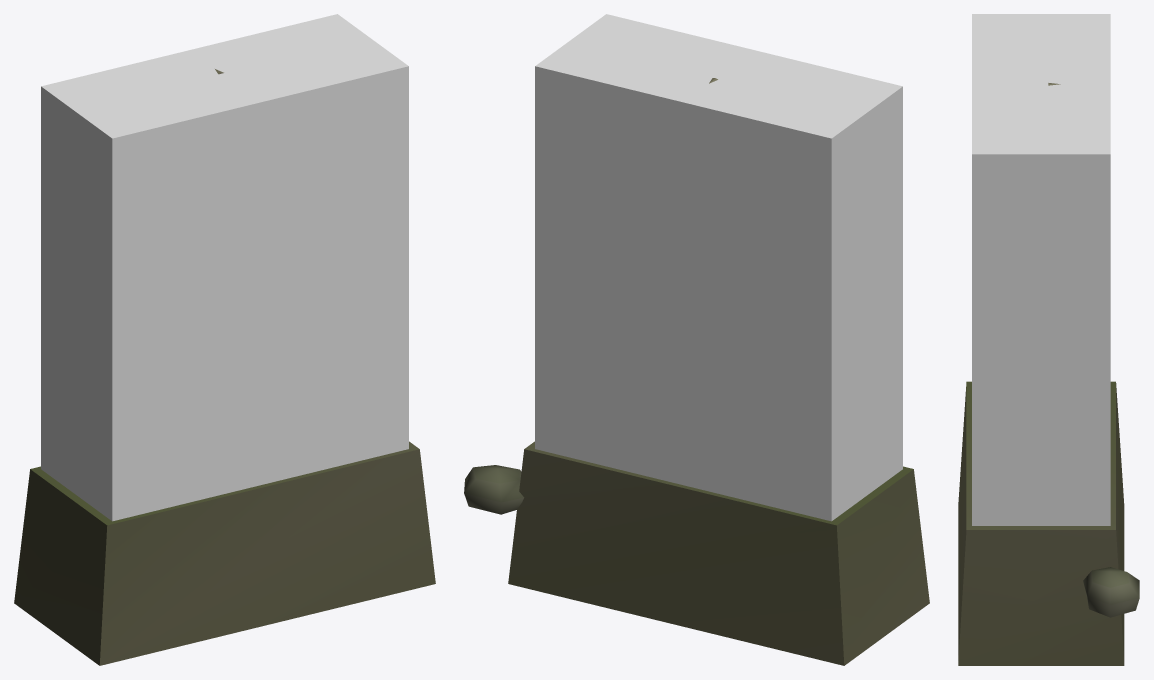
File: lore_stele.glb
3 views of the same model, side by side, from view 1: azimuth 30°, elevation 25°; view 2: azimuth 150°, elevation 25°; view 3: azimuth 270°, elevation 25° (orthographic). The views are drawn at different scales.
Parts seen in each view (by area): view 1: COL_stele, lore_stele; view 2: COL_stele, lore_stele; view 3: COL_stele, lore_stele.
Boxes of the visible parts, x1,y1,x2,y2 form: COL_stele: (41,14,408,521); lore_stele: (14,69,435,665); COL_stele: (535,14,902,521); lore_stele: (464,78,929,665); COL_stele: (972,14,1110,525); lore_stele: (958,83,1139,665).
Bounding box in the file's own units: 1.56 × 2 × 0.6556.
